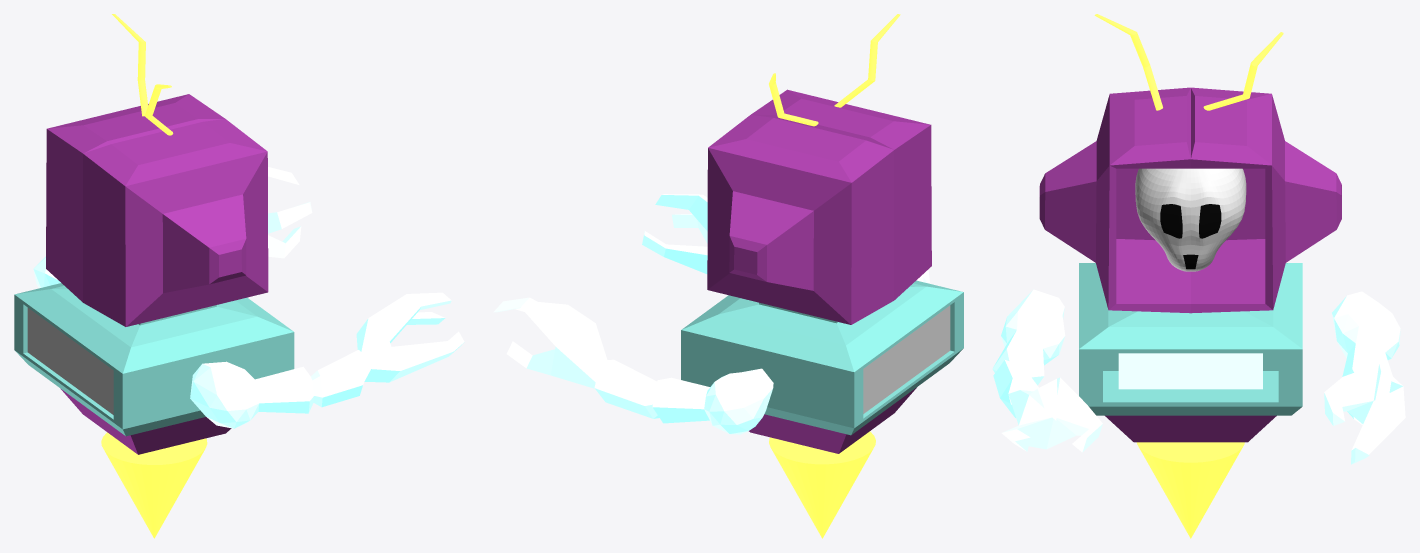
Rendered from Fantasma en la concha.fbx.
3 renders of one model, left to right at view 1: azimuth 30°, elevation 25°; view 2: azimuth 150°, elevation 25°; view 3: azimuth 270°, elevation 25°, orthographic. The views are drawn at different scales.
Parts seen in each view (by area): view 1: HeadCube, Torso, ArmRight, Cone, ArmRight.001, Antena2; view 2: HeadCube, Torso, ArmRight.001, Cone, ArmRight, Antena1, Antena2; view 3: HeadCube, Torso, ArmRight, AlienHead, ArmRight.001, Cone, Antena1, Antena2.
Part boxes in pixels (x1,y1,x2,y2): HeadCube: (46,94,268,326); Torso: (14,283,294,454); ArmRight: (190,292,464,428); Cone: (101,432,207,538); ArmRight.001: (33,167,312,288); Antena2: (112,14,148,116); HeadCube: (707,89,931,324); Torso: (681,280,963,453); ArmRight.001: (493,297,773,434); Cone: (769,431,875,538); ArmRight: (642,194,929,283); Antena1: (834,14,900,107); Antena2: (769,73,818,126); HeadCube: (1039,87,1341,313); Torso: (1079,263,1302,442); ArmRight: (992,289,1102,452); AlienHead: (1135,168,1246,271); ArmRight.001: (1324,291,1405,464); Cone: (1136,442,1244,538); Antena1: (1094,14,1162,110); Antena2: (1203,32,1283,110).
Size of the model in its own units: 1182 by 1746 by 1284.
